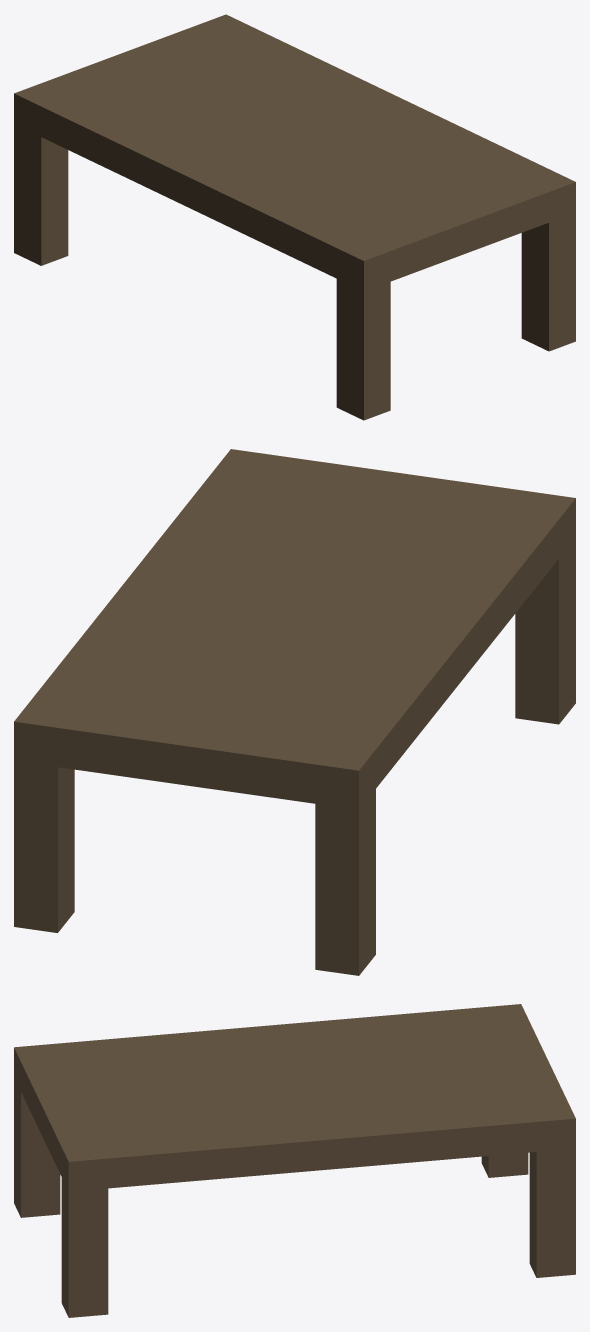
The model's file is TV Table.fbx.
3 views of the same model, one above another, from view 1: azimuth 30°, elevation 25°; view 2: azimuth 150°, elevation 25°; view 3: azimuth 270°, elevation 25° (orthographic). The views are drawn at different scales.
Visible parts, largest first — view 1: Cube.013; view 2: Cube.013; view 3: Cube.013.
Part boxes in pixels (x1,y1,x2,y2): Cube.013: (14, 14, 575, 420); Cube.013: (14, 449, 575, 975); Cube.013: (14, 1004, 575, 1317).
Size of the model in its own units: 59.36 by 27.35 by 89.27.
